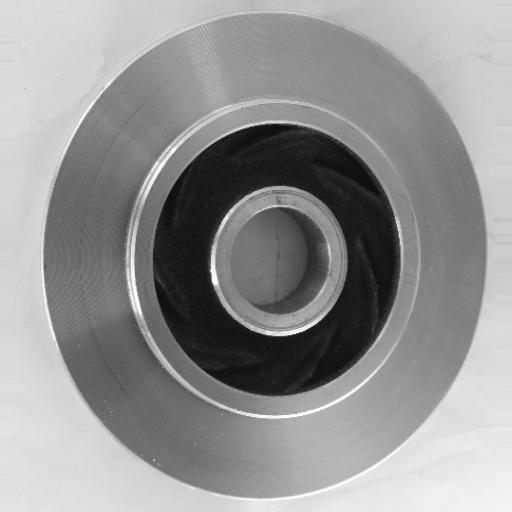polished_casting: (43, 11, 486, 499)
